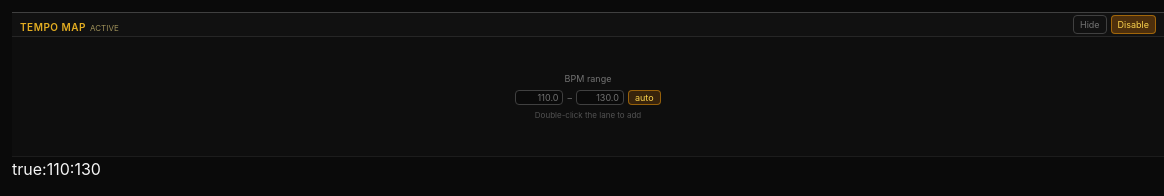
Test: tempo range controls › allows valid manual bounds and rejects a range narrower than 20 BPM
Step 1. Click the button with aria-label "Auto fit BPM range" → (644, 97), box x1=628 y1=90 x2=660 y2=105
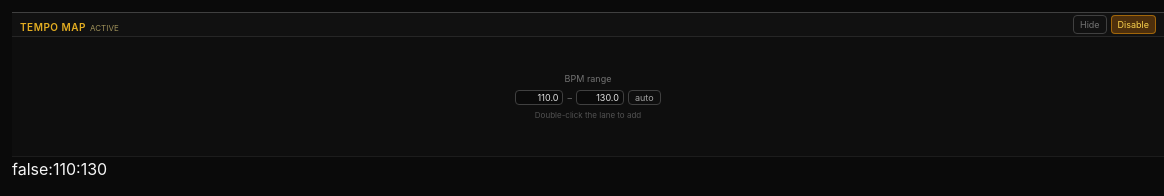
Step 2. Replace the text in the field named "Minimum visible BPM" with "100" → (539, 97), box x1=515 y1=90 x2=563 y2=105
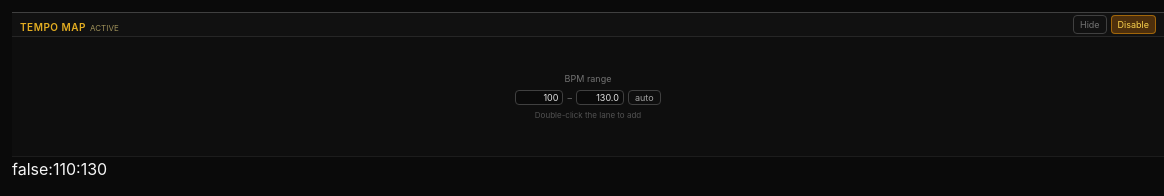
Step 3. Leave the field named "Minimum visible BPM", box x1=515 y1=90 x2=563 y2=105
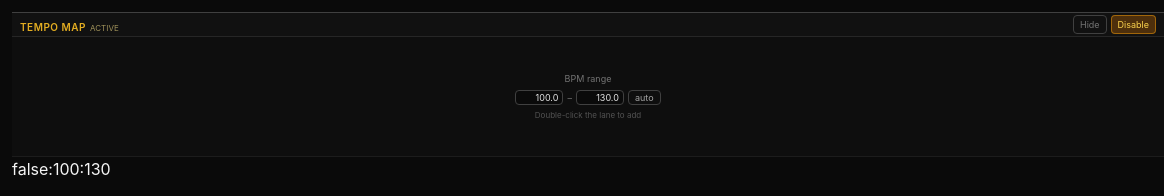
Now the text with test id "range" reads "false:100:130", box x1=12 y1=159 x2=111 y2=179
Step 4. Replace the text in the field named "Minimum visible BPM" with "120" → (539, 97), box x1=515 y1=90 x2=563 y2=105
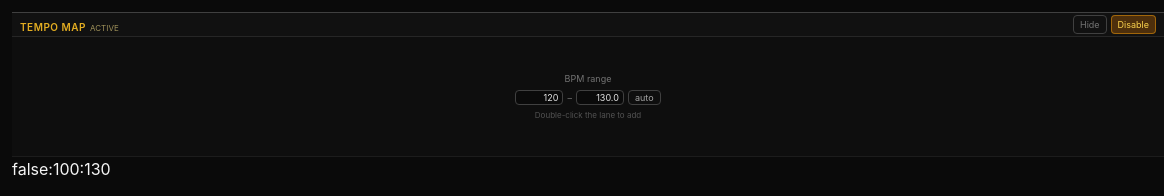
Step 5. Leave the field named "Minimum visible BPM", box x1=515 y1=90 x2=563 y2=105
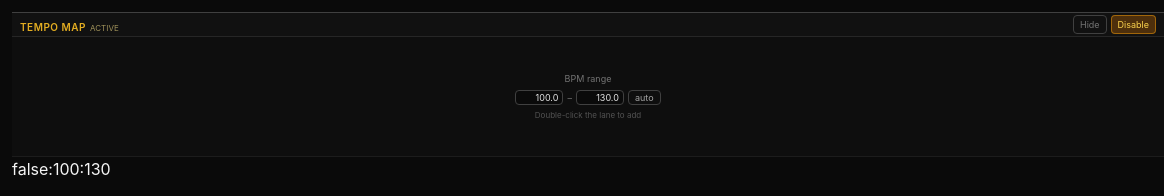
Now the text with test id "range" reads "false:100:130", box x1=12 y1=159 x2=111 y2=179
Now the field named "Minimum visible BPM" holds "100.0", box x1=515 y1=90 x2=563 y2=105
